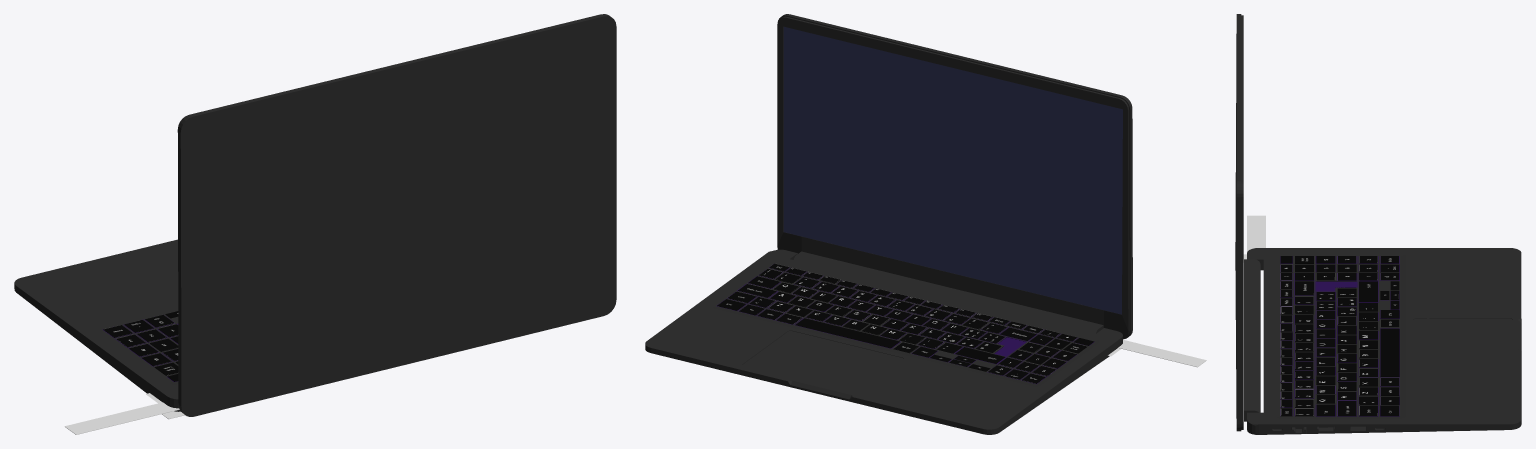
File: laptop.glb
3 views of the same model, side by side, from view 1: azimuth 30°, elevation 25°; view 2: azimuth 150°, elevation 25°; view 3: azimuth 270°, elevation 25° (orthographic). The views are drawn at different scales.
Visible parts, largest first — view 1: Monitor, Laptop, keyboard, Keycap.035; view 2: Monitor, Laptop, keyboard, MonitorRotator, keyboard.001, Keycap.035; view 3: Laptop, keyboard, Monitor, keyboard.001, MonitorRotator, Keycap.035.
Part boxes in pixels (<box>): Monitor: <box>177,14,616,416</box>; Laptop: <box>14,239,180,411</box>; keyboard: <box>103,311,178,381</box>; Keycap.035: <box>65,403,167,434</box>; Monitor: <box>777,14,1132,339</box>; Laptop: <box>645,249,1122,434</box>; keyboard: <box>717,263,1094,383</box>; MonitorRotator: <box>793,251,1103,333</box>; keyboard.001: <box>716,266,1094,384</box>; Keycap.035: <box>1132,344,1206,367</box>; Laptop: <box>1247,248,1521,434</box>; keyboard: <box>1280,256,1399,416</box>; Monitor: <box>1235,14,1243,431</box>; keyboard.001: <box>1280,256,1399,416</box>; MonitorRotator: <box>1244,259,1260,421</box>; Keycap.035: <box>1247,215,1265,250</box>.
Size of the model in its own units: 0.429 by 0.23 by 0.2398.
4 materials, 4 textured.
